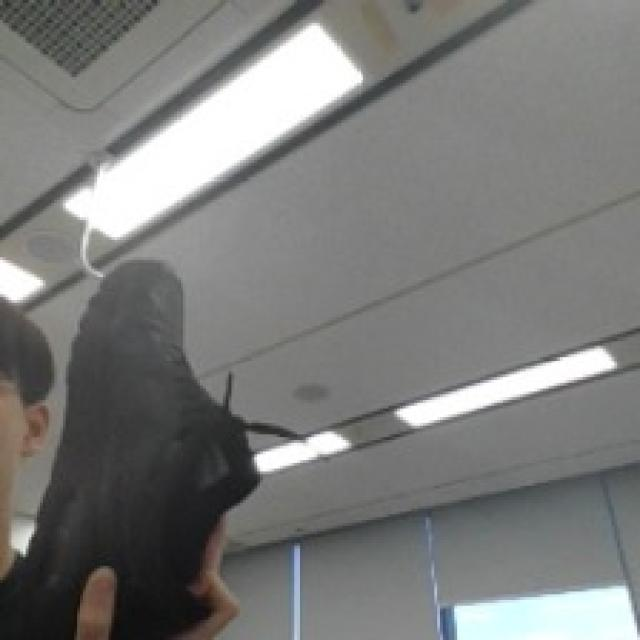shoes: (25, 240, 258, 640)
